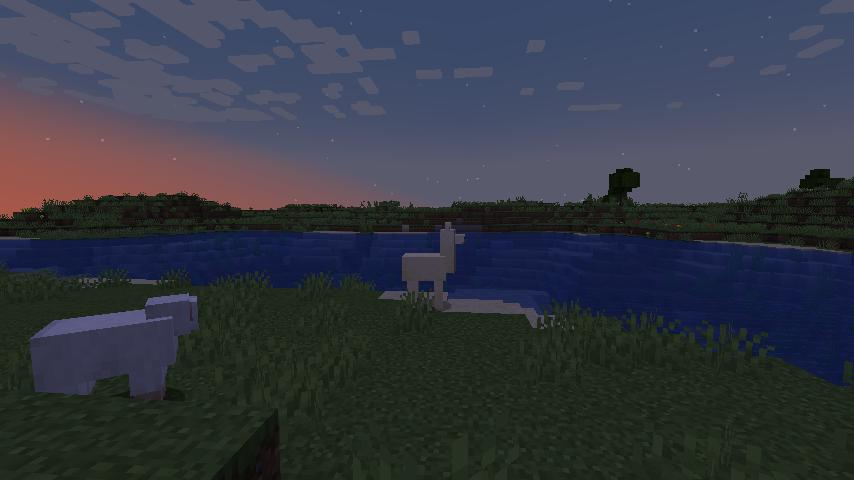llama: (401, 221, 469, 315)
sheep: (27, 288, 203, 406)
